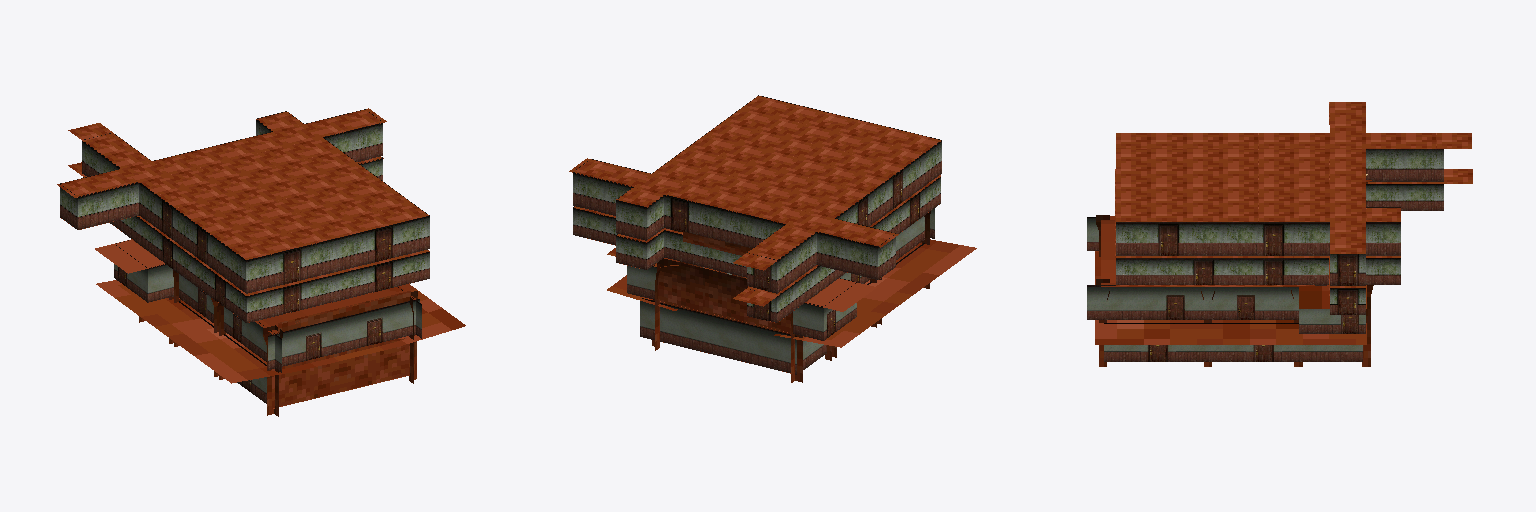
3 renders of one model, left to right at view 1: azimuth 30°, elevation 25°; view 2: azimuth 150°, elevation 25°; view 3: azimuth 270°, elevation 25°, orthographic.
Parts seen in each view (by area): view 1: Floor04, Walls04, Floor02, Walls02, Walls03, Floor01, Floor03, Walls01; view 2: Floor04, Walls04, Floor02, Walls03, Walls01, Walls02; view 3: Floor04, Walls04, Walls03, Walls02, Floor02, Walls01, Floor03.
Boxes of the visible parts, <box> form: Floor04: <box>57,108,429,295</box>; Walls04: <box>60,109,429,293</box>; Floor02: <box>95,239,465,416</box>; Walls02: <box>114,240,421,372</box>; Walls03: <box>83,157,429,322</box>; Floor01: <box>272,338,409,408</box>; Floor03: <box>113,225,415,334</box>; Walls01: <box>179,301,266,403</box>; Floor04: <box>569,96,940,306</box>; Walls04: <box>573,95,941,293</box>; Floor02: <box>607,211,976,382</box>; Walls03: <box>573,177,940,322</box>; Walls01: <box>640,242,924,374</box>; Walls02: <box>627,208,934,340</box>; Floor04: <box>1115,102,1472,287</box>; Walls04: <box>1116,149,1443,285</box>; Walls03: <box>1116,184,1443,314</box>; Walls02: <box>1087,217,1365,333</box>; Floor02: <box>1095,215,1373,366</box>; Walls01: <box>1104,323,1362,361</box>; Floor03: <box>1101,216,1366,295</box>.
Bounding box in the file's own units: 8.24 × 3.94 × 8.79.
3 materials, 3 textured.